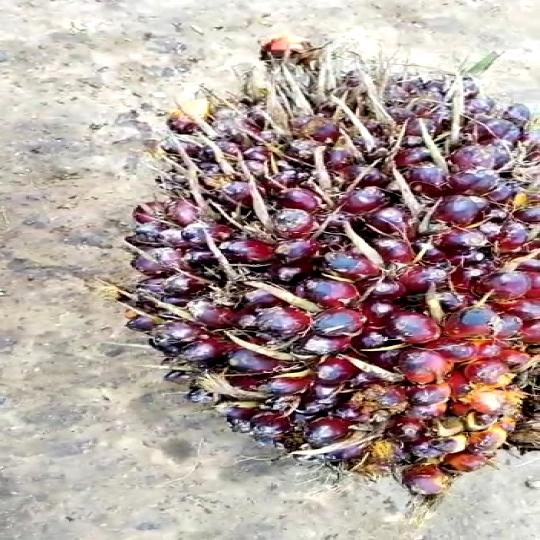kurang masak: (115, 59, 540, 499)
